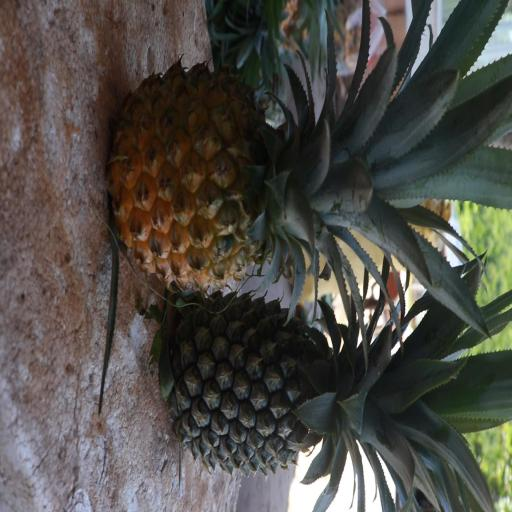Pineapple - v8 v1: (114, 72, 439, 290)
